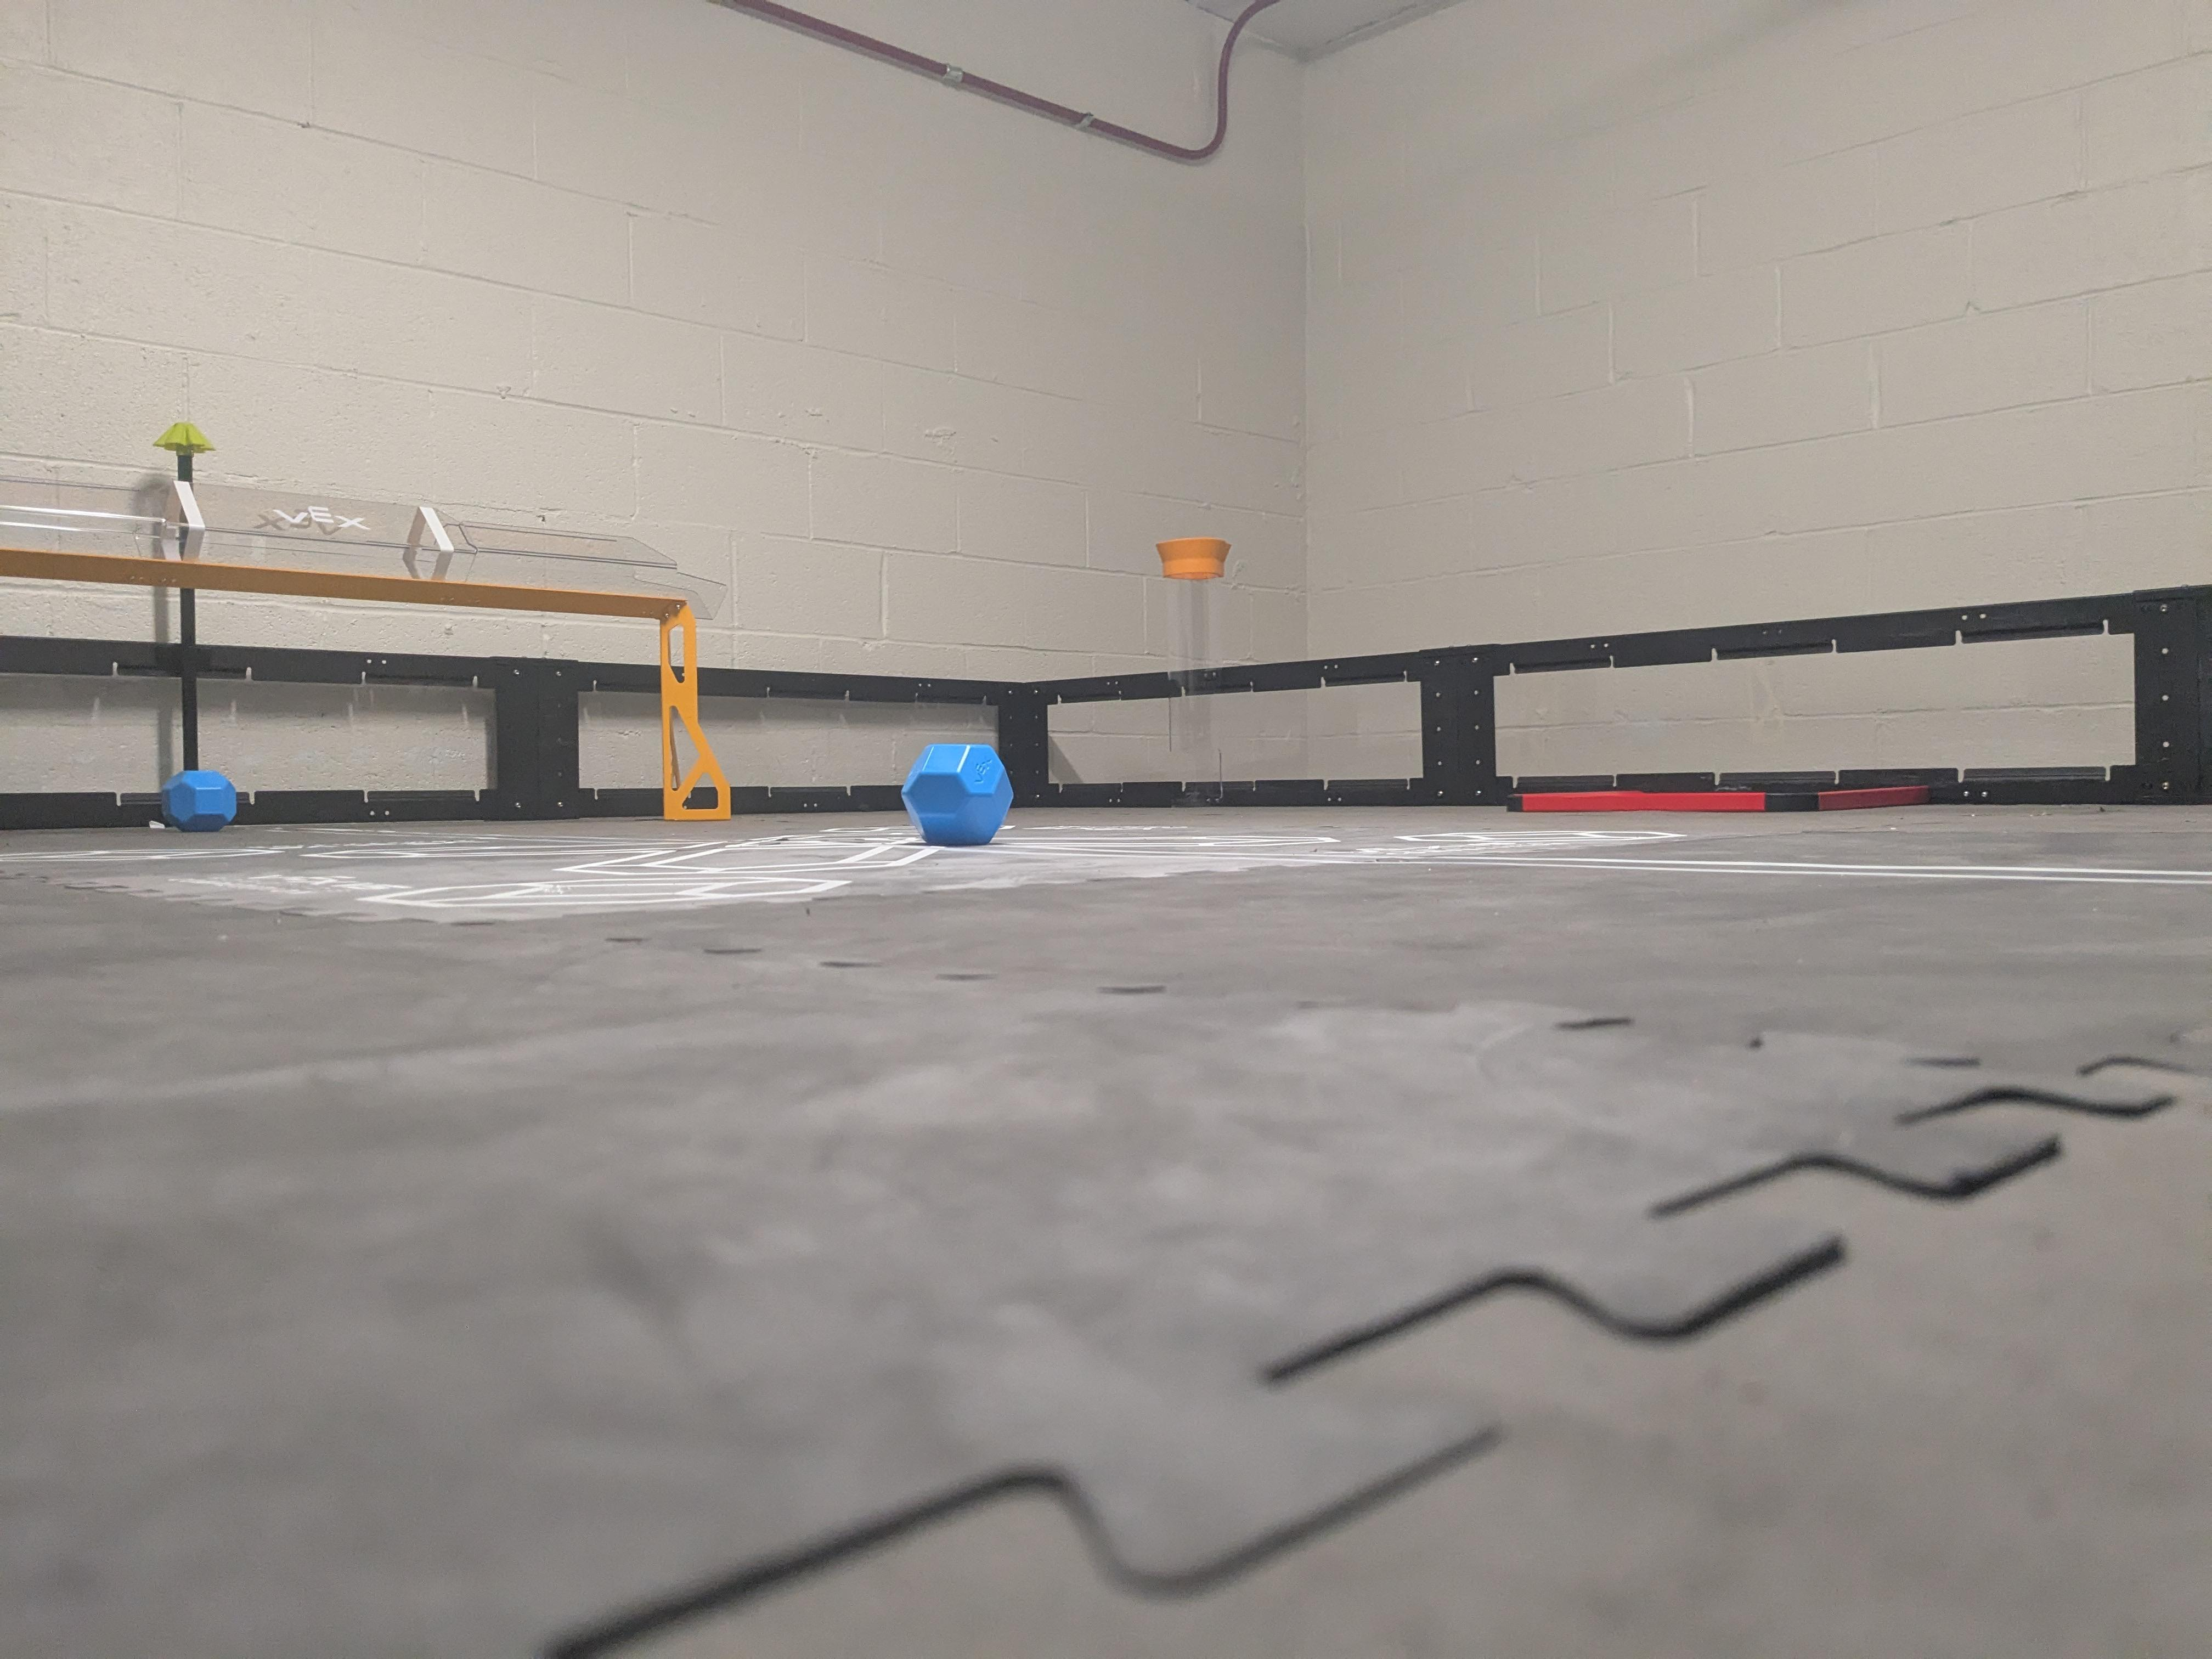Vex-Pieces-BLUE: (902, 744, 1008, 847), (162, 770, 237, 833)
